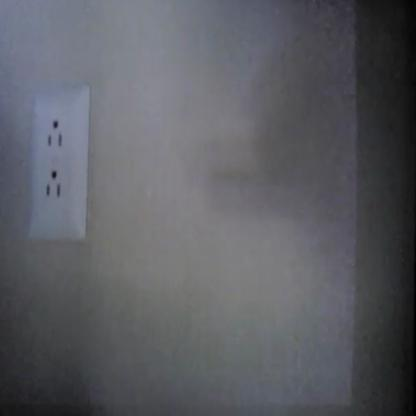OUTLET: (29, 83, 90, 240)
